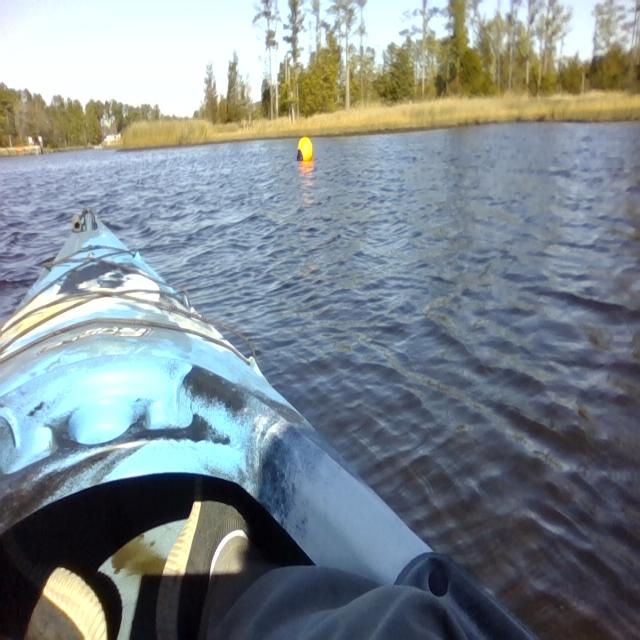Buoy: (292, 134, 316, 169)
